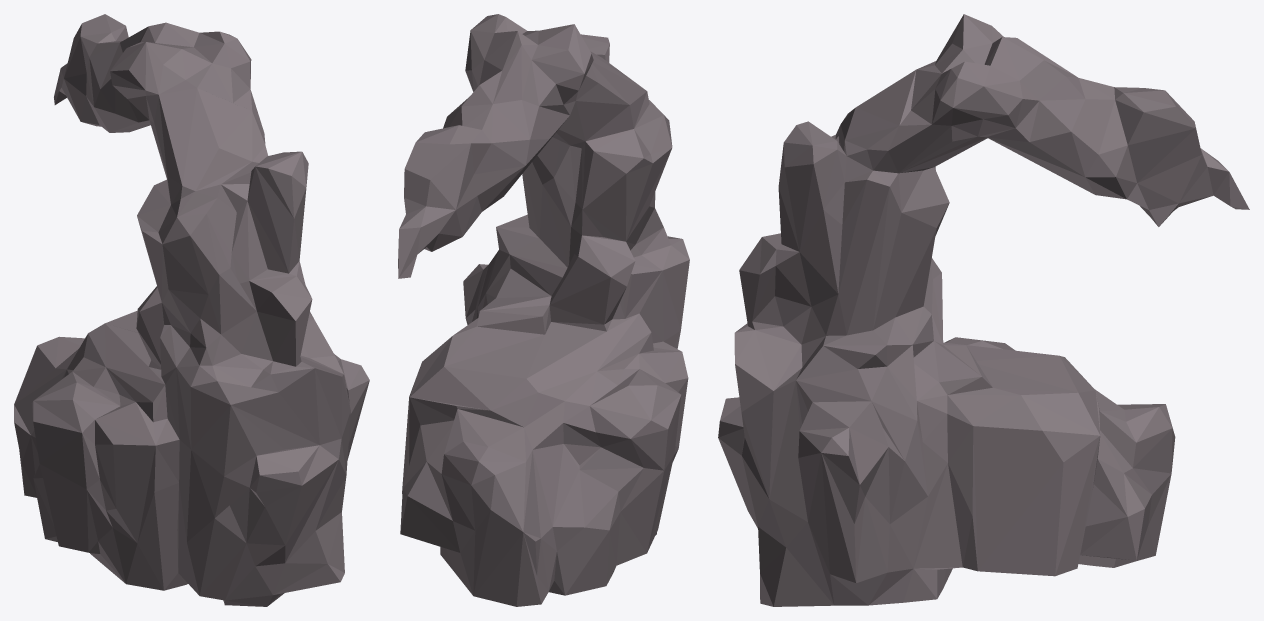
File: detailed_low_poly_rock_arch.glb
The picture shows the model from 3 angles, left to right: view 1: azimuth 30°, elevation 25°; view 2: azimuth 150°, elevation 25°; view 3: azimuth 270°, elevation 25°; orthographic projection. The views are drawn at different scales.
Visible parts, largest first — view 1: Cube_0; view 2: Cube_0; view 3: Cube_0.
Boxes of the visible parts, bbox=[...] form: Cube_0: bbox=[14, 14, 369, 606]; Cube_0: bbox=[398, 14, 689, 606]; Cube_0: bbox=[718, 14, 1249, 606].
Bounding box in the file's own units: 6.14 × 11.41 × 9.9.
1 material, 1 textured.
